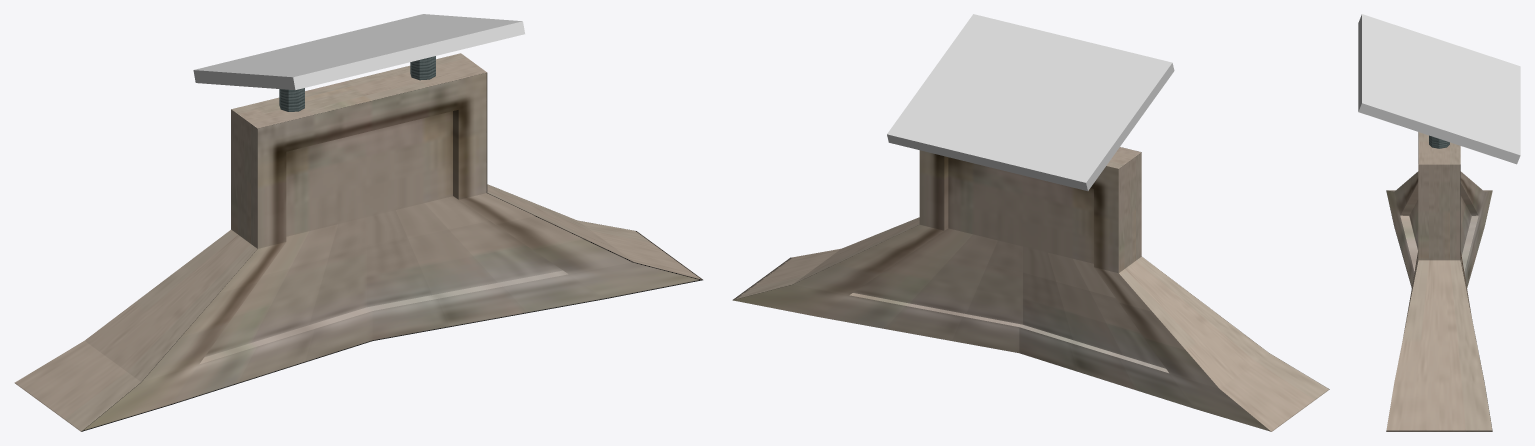
File: shrine.fbx
3 views of the same model, side by side, from view 1: azimuth 30°, elevation 25°; view 2: azimuth 150°, elevation 25°; view 3: azimuth 270°, elevation 25° (orthographic). The views are drawn at different scales.
Parts seen in each view (by area): view 1: Cube.001; view 2: Cube.001; view 3: Cube.001.
Part boxes in pixels (<box>): Cube.001: <box>14,14,702,431</box>; Cube.001: <box>732,14,1329,431</box>; Cube.001: <box>1358,14,1520,431</box>.
Bounding box in the file's own units: 542 × 264 × 154.
Materials: 3 (2 with a texture image).
